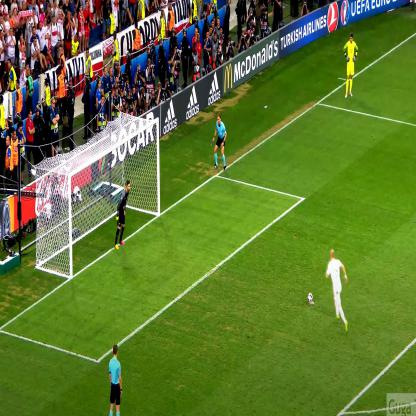penalty kick: (45, 137, 384, 335)
